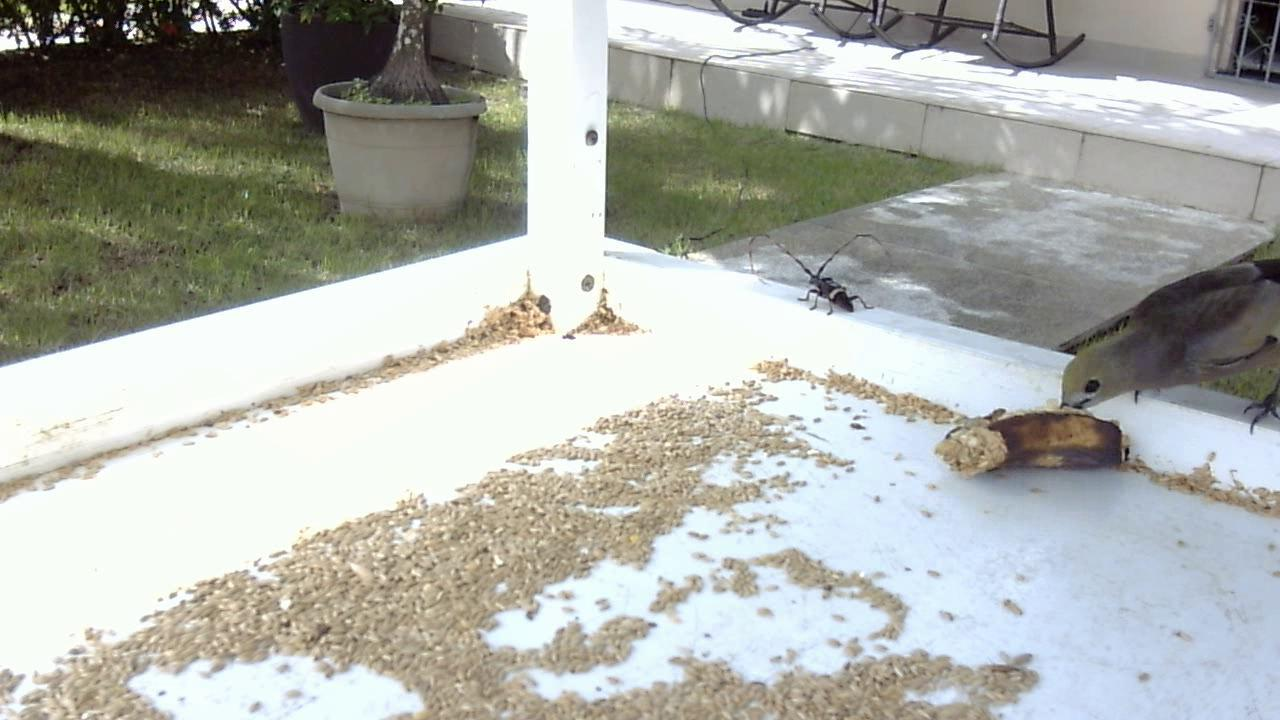sanhaco_do_coqueiro: (1046, 241, 1280, 450)
